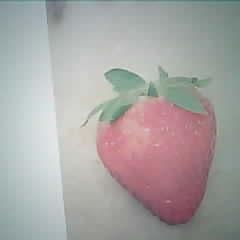straw-ripe: (96, 85, 216, 223)
